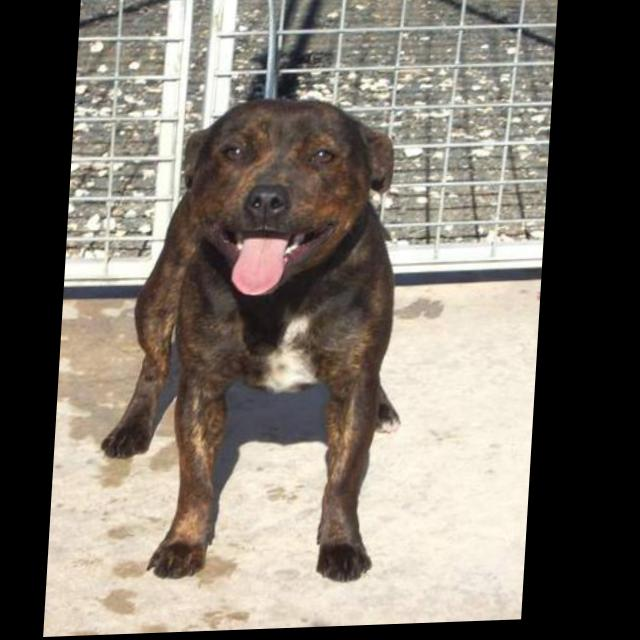staffford: (100, 94, 424, 592)
